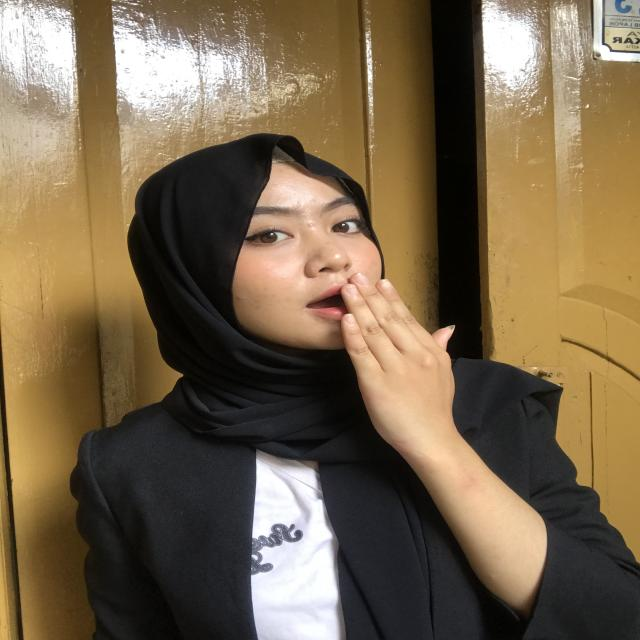ngantuk: (301, 268, 480, 524)
